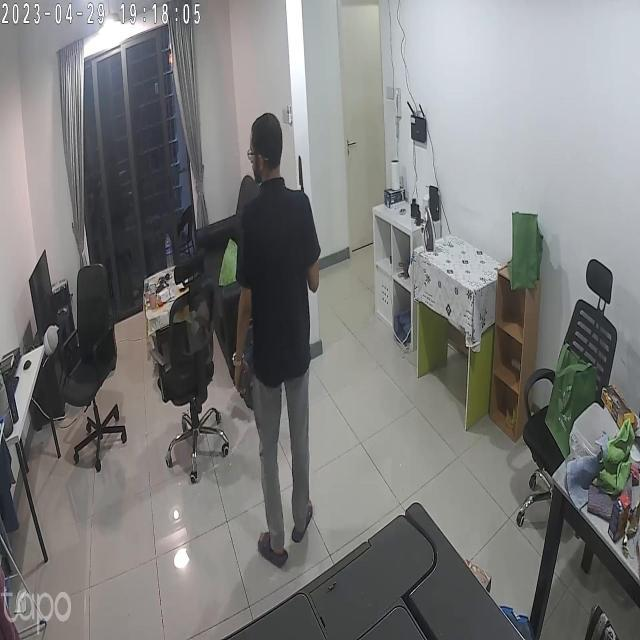Knife: (292, 156, 309, 190)
